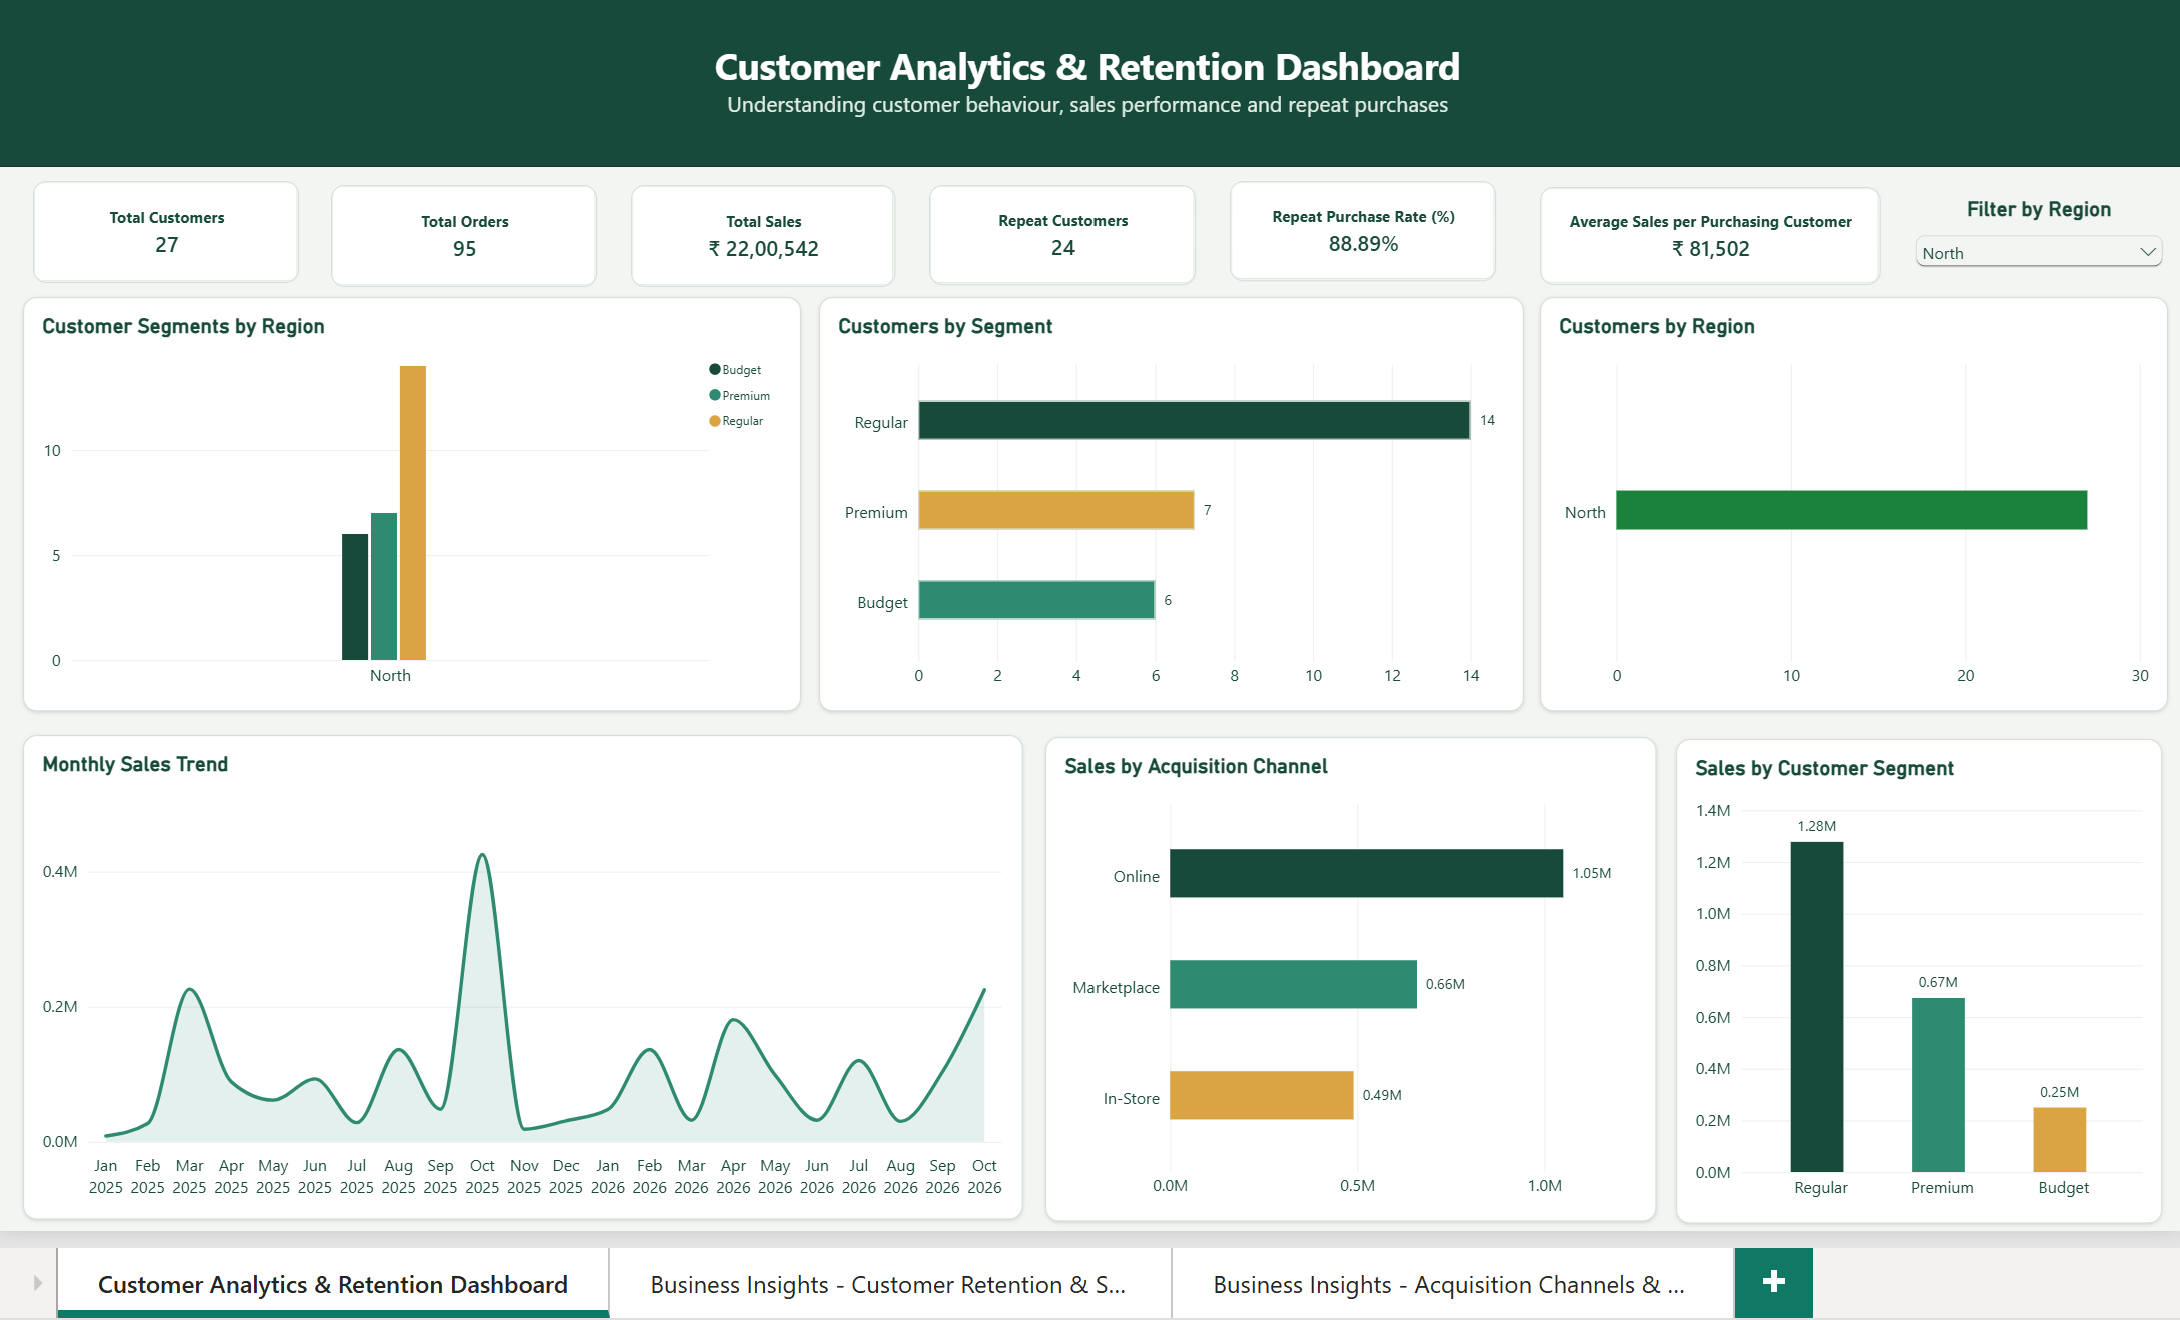

This screenshot's page, from the dashboard's own definition file:
{"tool":"powerbi","page":{"name":"Customer Analytics & Retention Dashboard","canvas":[1920,1080],"ordinal":0},"visuals":[{"type":"cardVisual","fields":{"Data":["Customers.Total Customers"]},"box":[35.6,159.6,233.3,89.4],"z":0},{"type":"cardVisual","fields":{"Data":["Orders.Total Sales"]},"box":[558.8,162.4,231.8,89.4],"z":1000},{"type":"cardVisual","fields":{"Data":["Customers.Repeat Customers"]},"box":[821.2,162.4,233.3,87.9],"z":2000},{"type":"cardVisual","fields":{"Data":["Customers.Repeat Purchase Rate %"]},"box":[1084.7,160,233.3,87.9],"z":3000},{"type":"clusteredBarChart","title":"Customers by Segment","fields":{"Category":["Customers.CustomerSegment"],"Y":["CountNonNull(Customers.CustomerID)"]},"box":[725.1,261.9,617.6,363.4],"z":4000},{"type":"clusteredColumnChart","title":"Sales by Customer Segment","fields":{"Category":["Orders.CustomerSegment"],"Y":["Sum(Orders.SalesINR)"]},"box":[1475.8,648.3,426.5,424.8],"z":5000},{"type":"lineChart","title":"Monthly Sales Trend","fields":{"Category":["Orders.MonthYear"],"Y":["Sum(Orders.SalesINR)"]},"box":[25.6,645.8,877,424.8],"z":6000},{"type":"clusteredBarChart","title":"Sales by Acquisition Channel","fields":{"Category":["Orders.AcquisitionChannel"],"Y":["Sum(Orders.SalesINR)"]},"box":[923,647.5,535.7,424.8],"z":7000},{"type":"clusteredBarChart","title":"Customers by Region","fields":{"Category":["Customers.Region"],"Y":["CountNonNull(Customers.CustomerID)"]},"box":[1356.4,261.9,551.1,363.4],"z":8000},{"type":"clusteredColumnChart","title":"Customer Segments by Region","fields":{"Category":["Customers.Region"],"Series":["Customers.CustomerSegment"],"Y":["CountNonNull(Customers.CustomerID)"]},"box":[25.6,261.9,682.5,363.4],"z":9000},{"type":"cardVisual","fields":{"Data":["Orders.Average Sales per Customer"]},"box":[1356.5,164.7,298.8,85.9],"z":10000},{"type":"cardVisual","fields":{"Data":["Orders.Total Orders"]},"box":[296.5,162.4,233.3,89.4],"z":11000},{"type":"slicer","title":"Filter by Region","fields":{"Values":["Customers.Region"]},"box":[1680,172.9,227.1,62.4],"z":12000},{"type":"shape","box":[1.8,0,1917.5,147.4],"z":13000},{"type":"textbox","box":[595.5,37.5,730.2,70],"z":14000}]}

Visuals, with their boxes on the page's 1920x1080 design canvas (x1, y1, x2, y2). These are canvas units, not pixel positions in the 2180x1320 screenshot, which may show the page scaled, cropped or inside an application window:
cardVisual - Customers.Total Customers: [left=36, top=160, right=269, bottom=249]
cardVisual - Orders.Total Sales: [left=559, top=162, right=791, bottom=252]
cardVisual - Customers.Repeat Customers: [left=821, top=162, right=1054, bottom=250]
cardVisual - Customers.Repeat Purchase Rate %: [left=1085, top=160, right=1318, bottom=248]
"Customers by Segment" clusteredBarChart: [left=725, top=262, right=1343, bottom=625]
"Sales by Customer Segment" clusteredColumnChart: [left=1476, top=648, right=1902, bottom=1073]
"Monthly Sales Trend" lineChart: [left=26, top=646, right=903, bottom=1071]
"Sales by Acquisition Channel" clusteredBarChart: [left=923, top=648, right=1459, bottom=1072]
"Customers by Region" clusteredBarChart: [left=1356, top=262, right=1908, bottom=625]
"Customer Segments by Region" clusteredColumnChart: [left=26, top=262, right=708, bottom=625]
cardVisual - Orders.Average Sales per Customer: [left=1356, top=165, right=1655, bottom=251]
cardVisual - Orders.Total Orders: [left=296, top=162, right=530, bottom=252]
"Filter by Region" slicer: [left=1680, top=173, right=1907, bottom=235]
shape: [left=2, top=0, right=1919, bottom=147]
textbox: [left=596, top=38, right=1326, bottom=108]
